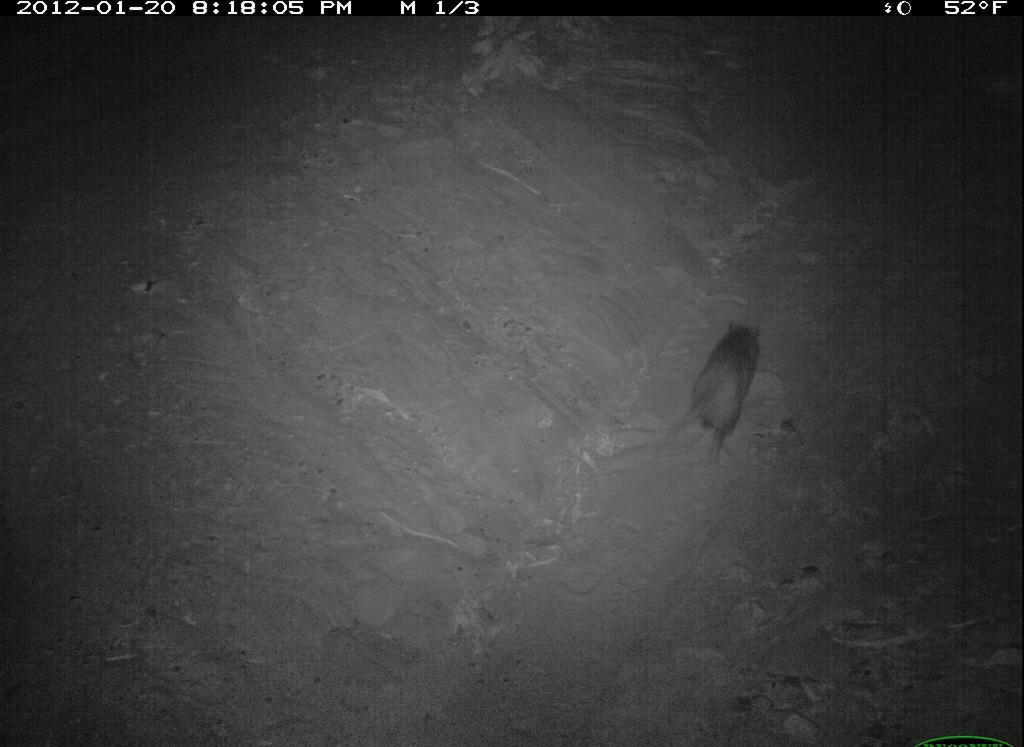opossum: (655, 314, 771, 469)
